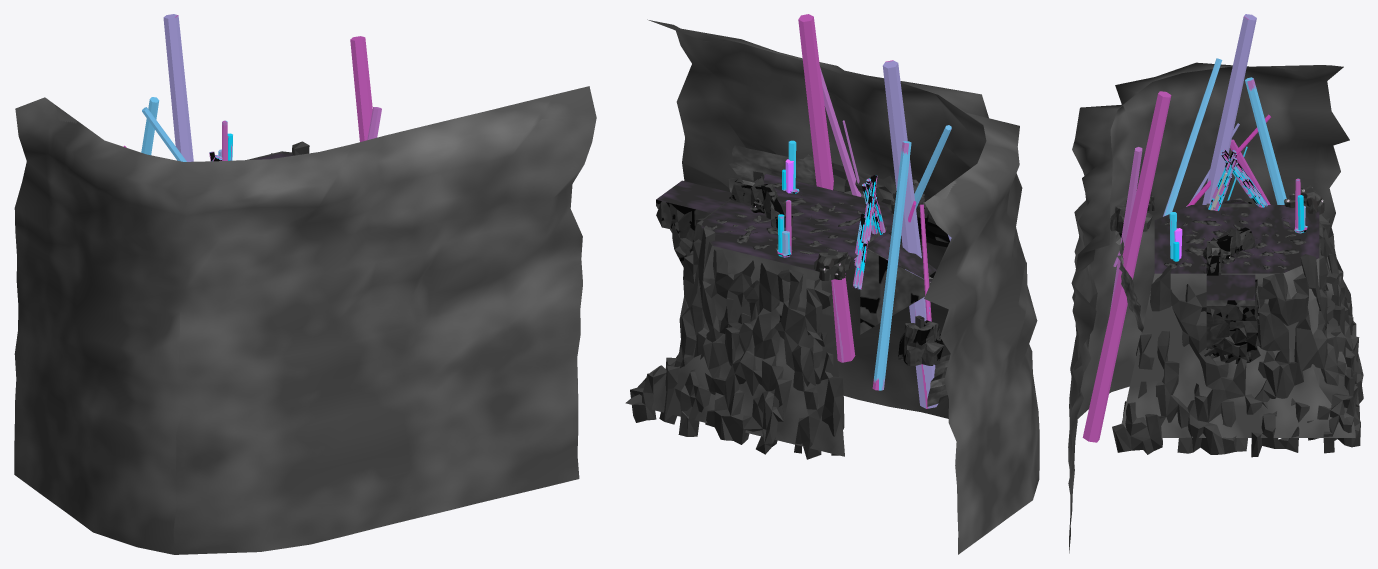
File: Level2-3Color.glb
The picture shows the model from 3 angles, left to right: view 1: azimuth 30°, elevation 25°; view 2: azimuth 150°, elevation 25°; view 3: azimuth 270°, elevation 25°; orthographic projection. The views are drawn at different scales.
Parts seen in each view (by area): view 1: Plane, Cylinder.016, Cylinder.017; view 2: Plane, CliffGenerator, Layout, CliffBase.001, Cylinder.017, Cylinder.016, CliffBase.003, Cylinder.010, Plane.005, Rock.010, Cube, Cylinder.032 (+11 smaller); view 3: Plane, CliffGenerator, CliffBase.001, Layout, Cylinder.017, Cylinder.016, CliffGenerator.002, Cube, Cylinder.010, Cylinder.011, CliffBase.002, Cylinder.018 (+8 smaller).
Part boxes in pixels (x1,y1,x2,y2): Plane: (14,86,596,554); Cylinder.016: (163,14,193,161); Cylinder.017: (350,36,372,141); Plane: (647,19,1039,554); CliffGenerator: (630,171,844,459); Layout: (656,174,936,282); CliffBase.001: (625,173,844,456); Cylinder.017: (798,14,855,362); Cylinder.016: (882,60,938,408); CliffBase.003: (860,227,935,334); Cylinder.010: (872,141,911,390); Plane.005: (728,145,816,192); Rock.010: (898,315,943,365); Cube: (709,183,865,256); Cylinder.032: (852,175,877,289); Plane: (1068,62,1349,553); CliffGenerator: (1112,214,1363,457); CliffBase.001: (1121,214,1355,437); Layout: (1154,199,1319,300); Cylinder.017: (1082,91,1171,442); Cylinder.016: (1202,14,1256,204); CliffGenerator.002: (1203,271,1260,363); Cube: (1164,212,1306,269); Cylinder.010: (1245,77,1286,204); Cylinder.011: (1163,58,1222,216); CliffBase.002: (1206,300,1255,352); Cylinder.018: (1110,147,1142,311).
Bounding box in the file's own units: 151 × 148 × 96.92.
Materials: 10 (6 with a texture image).
